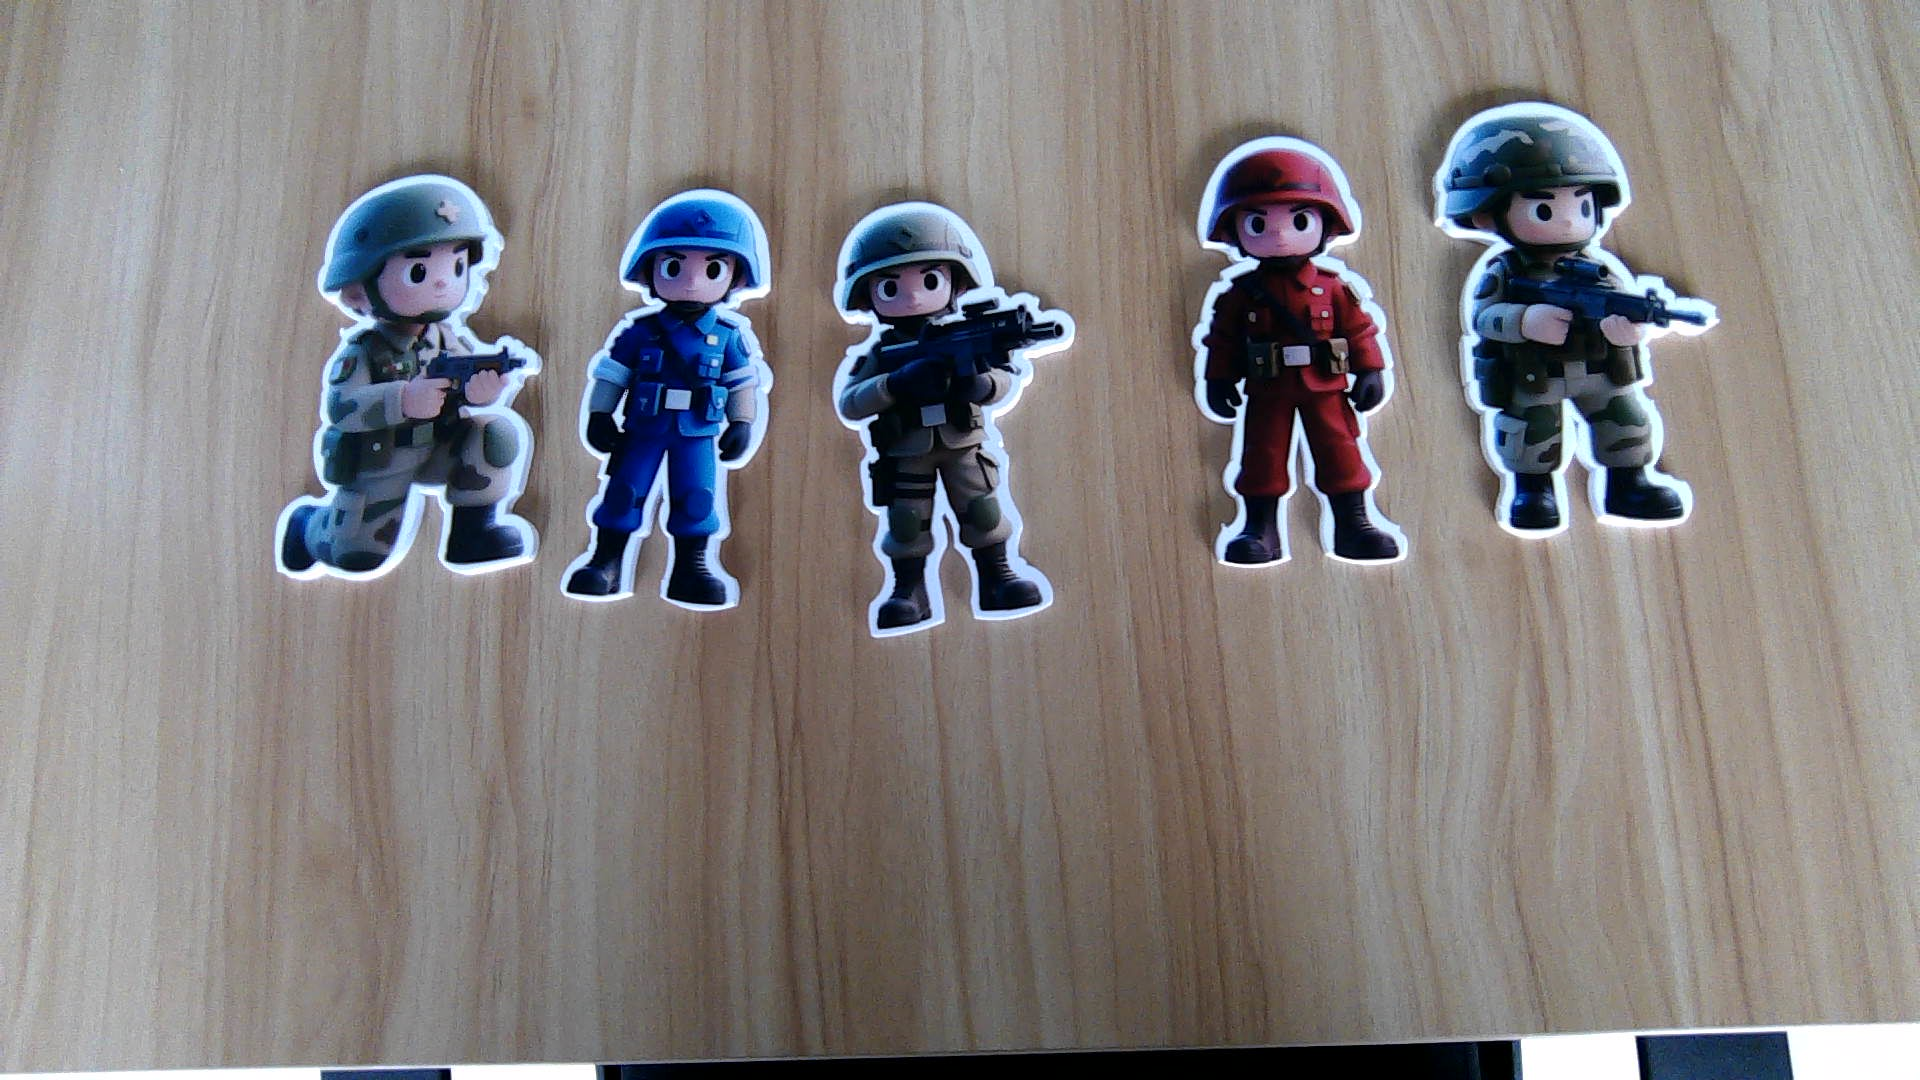友军: (827, 327, 1073, 640), (1457, 249, 1721, 537), (266, 327, 549, 585)
敌人1: (1187, 261, 1415, 574)
敌人2: (560, 306, 770, 618)
